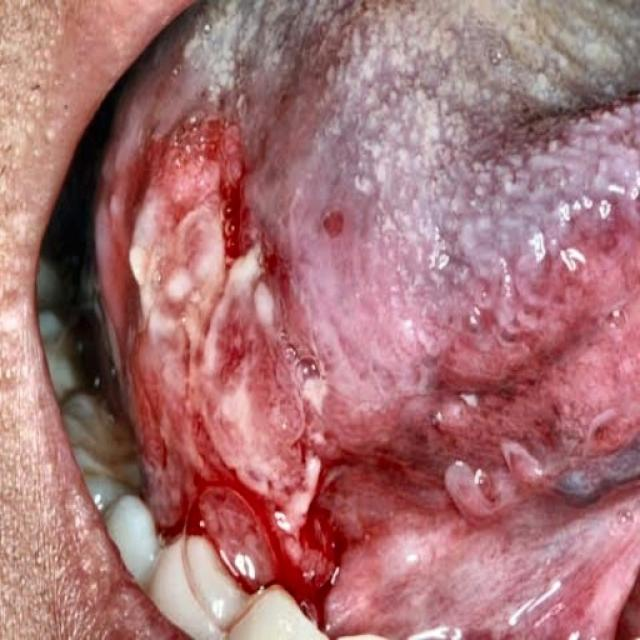cancer-detection: (115, 110, 325, 570)
processing_area: (95, 6, 634, 632)
